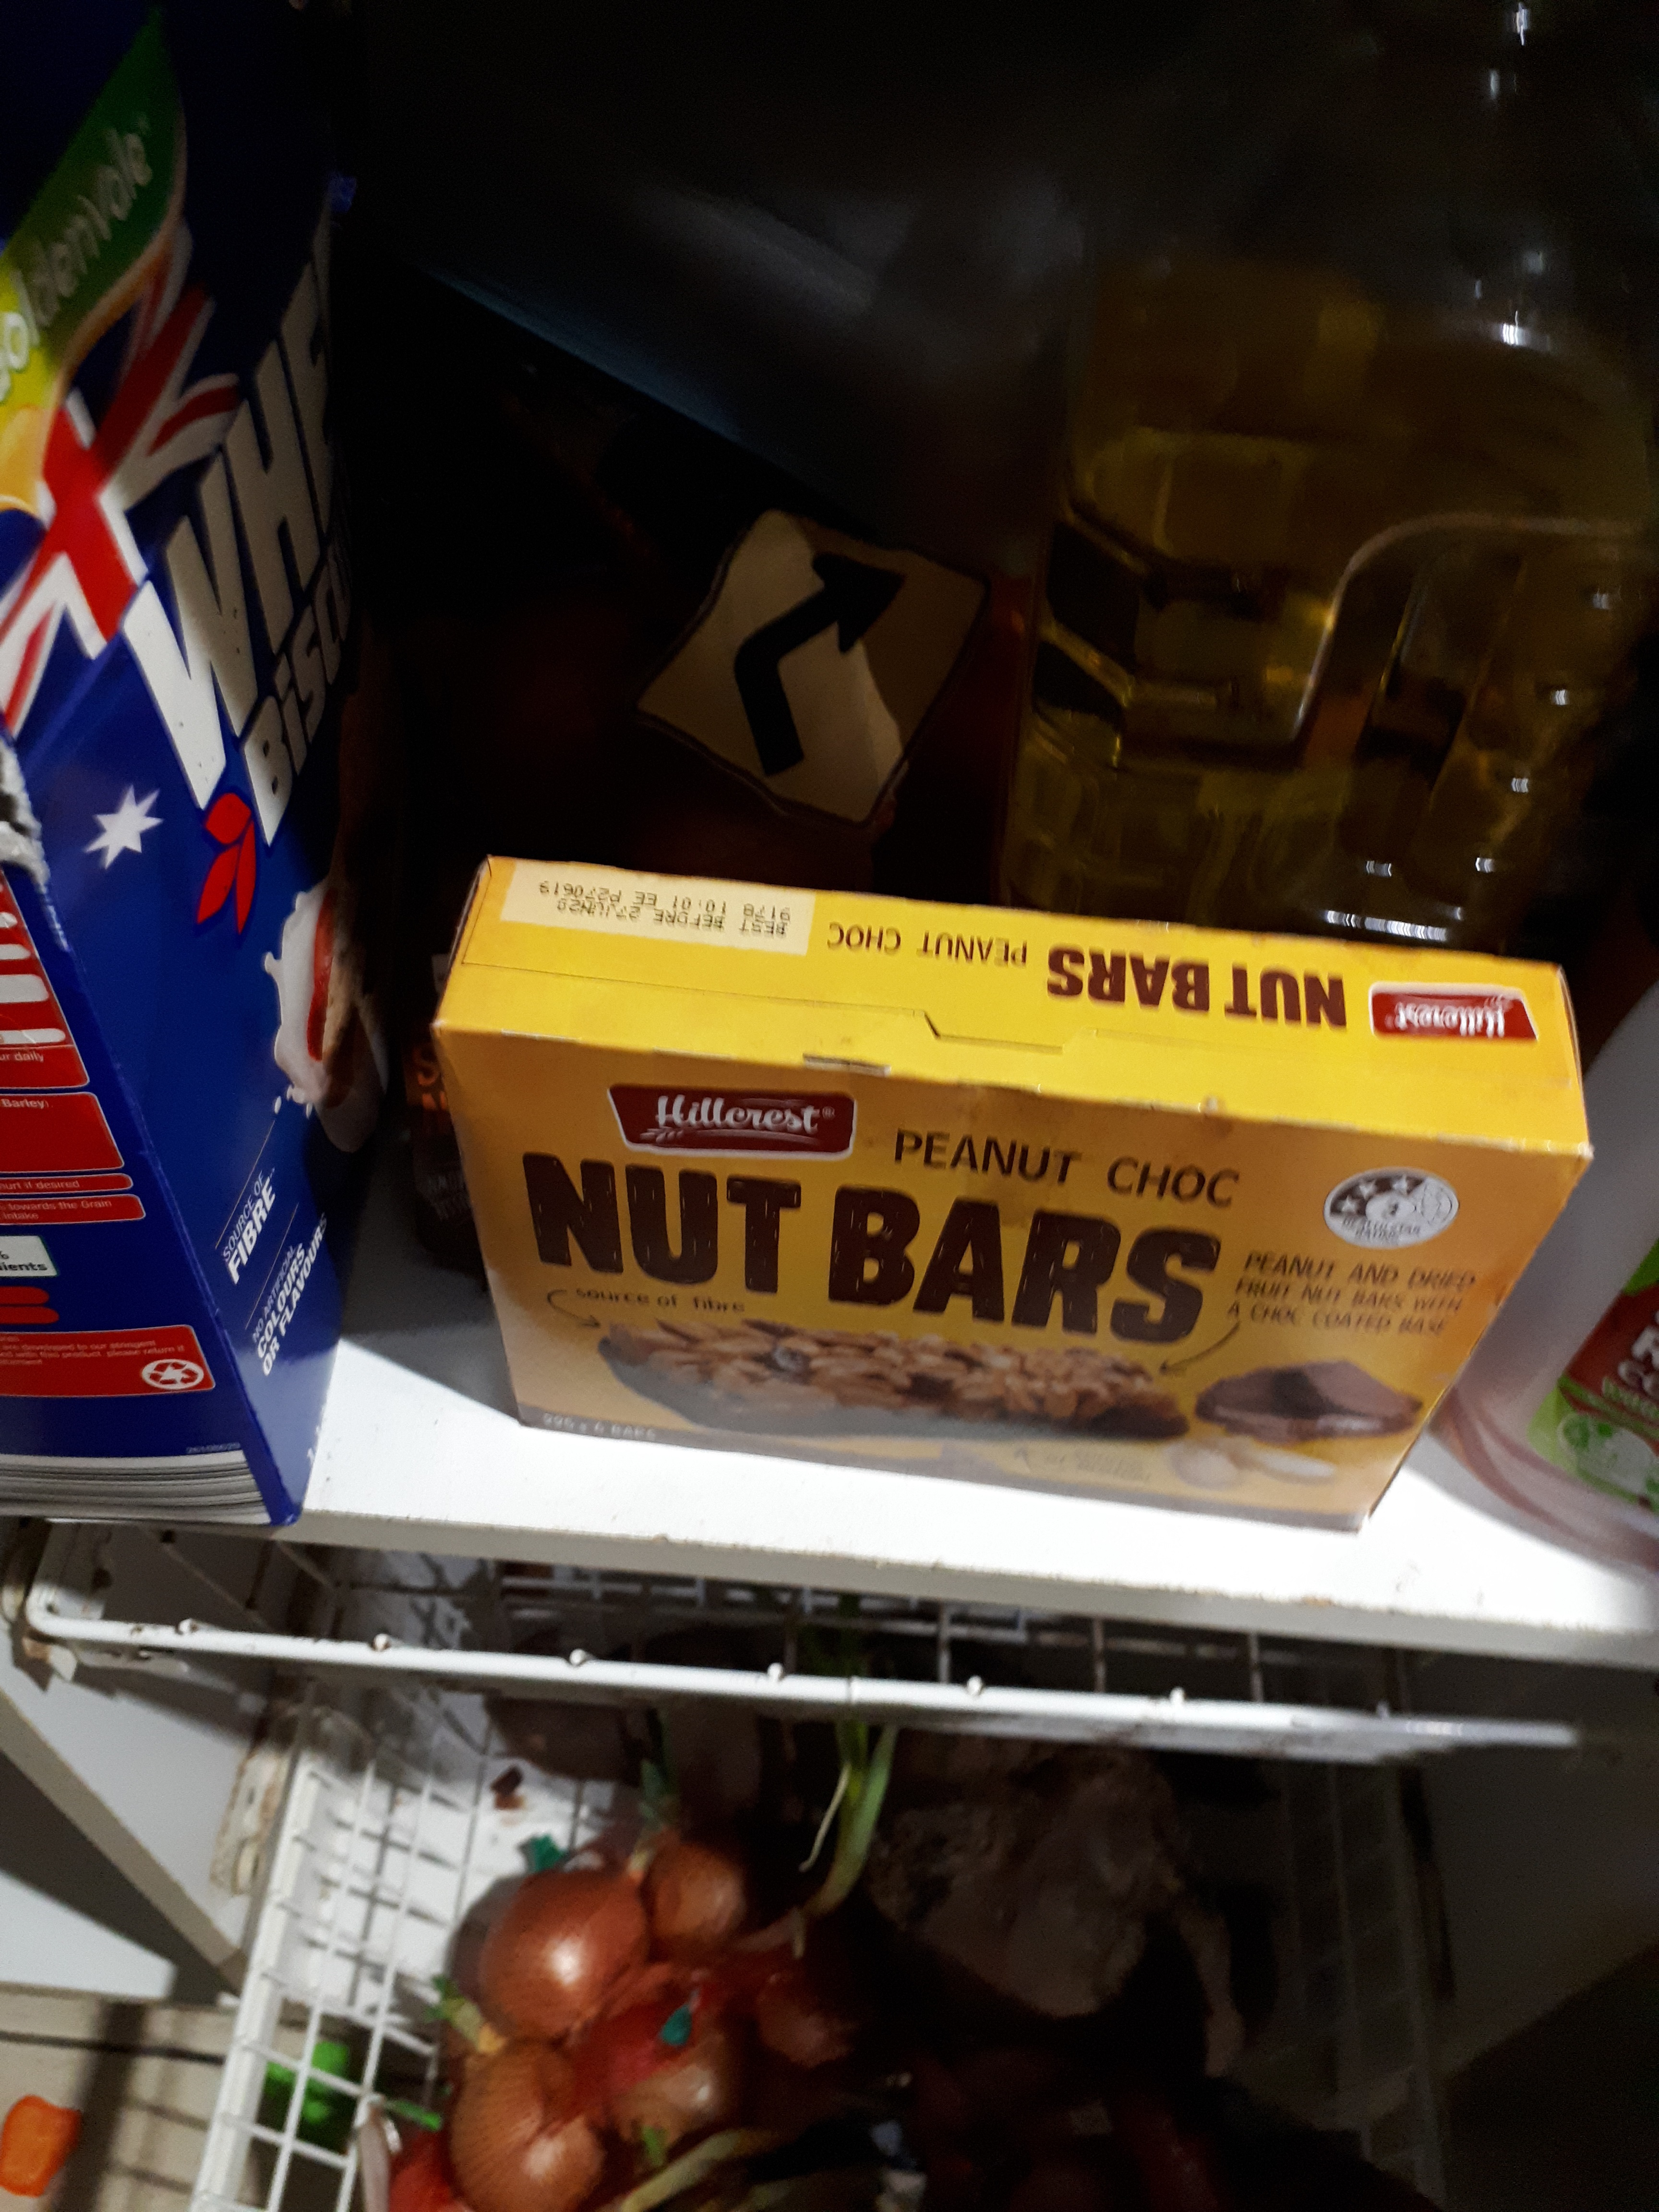right: (622, 505, 993, 867), (688, 550, 945, 780)
